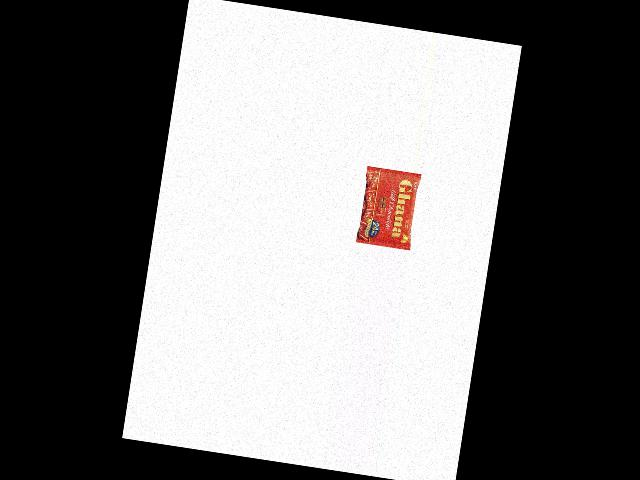chocolate: (353, 167, 420, 251)
